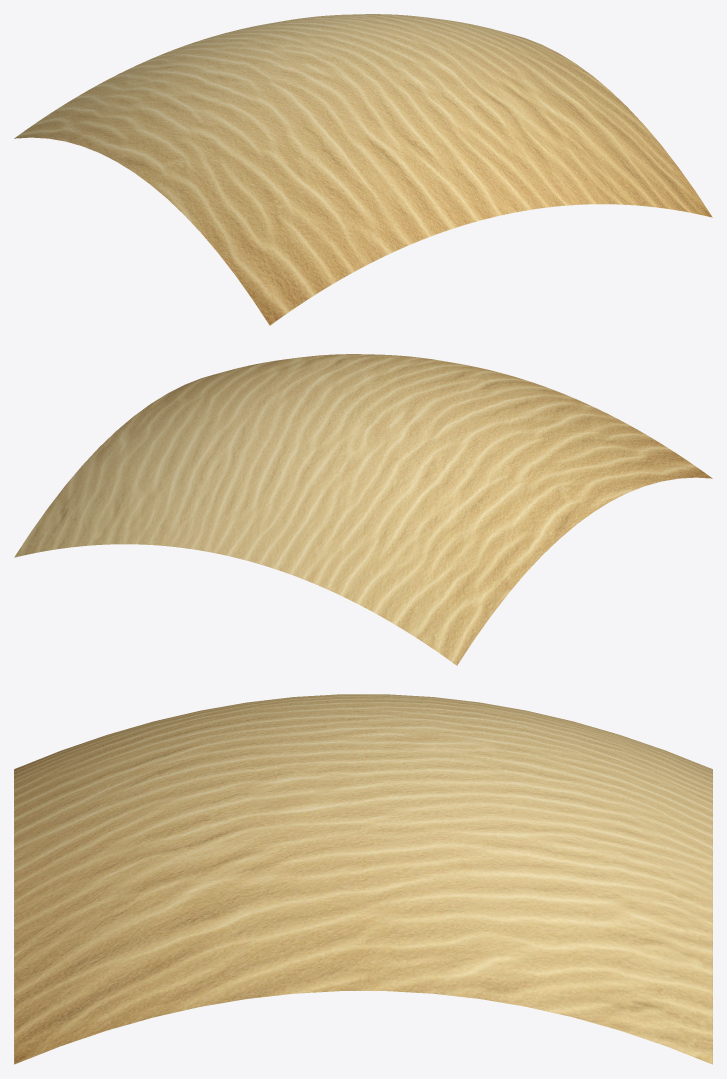
The model's file is stage1_sand.obj.
3 views of the same model, one above another, from view 1: azimuth 30°, elevation 25°; view 2: azimuth 150°, elevation 25°; view 3: azimuth 270°, elevation 25° (orthographic). The views are drawn at different scales.
Visible parts, largest first — view 1: 曲面片.005_曲面片.006; view 2: 曲面片.005_曲面片.006; view 3: 曲面片.005_曲面片.006.
Boxes of the visible parts, <box> form: 曲面片.005_曲面片.006: <box>14,14,712,325</box>; 曲面片.005_曲面片.006: <box>14,354,712,665</box>; 曲面片.005_曲面片.006: <box>14,694,712,1064</box>.
Bounding box in the file's own units: 80 × 20 × 80.
1 material, 1 textured.
